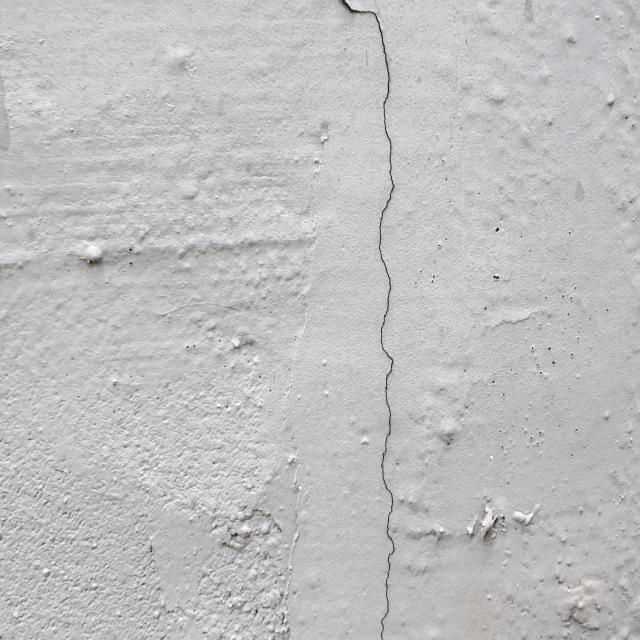SurfaceCrack: (306, 0, 441, 639), (0, 205, 314, 319)
